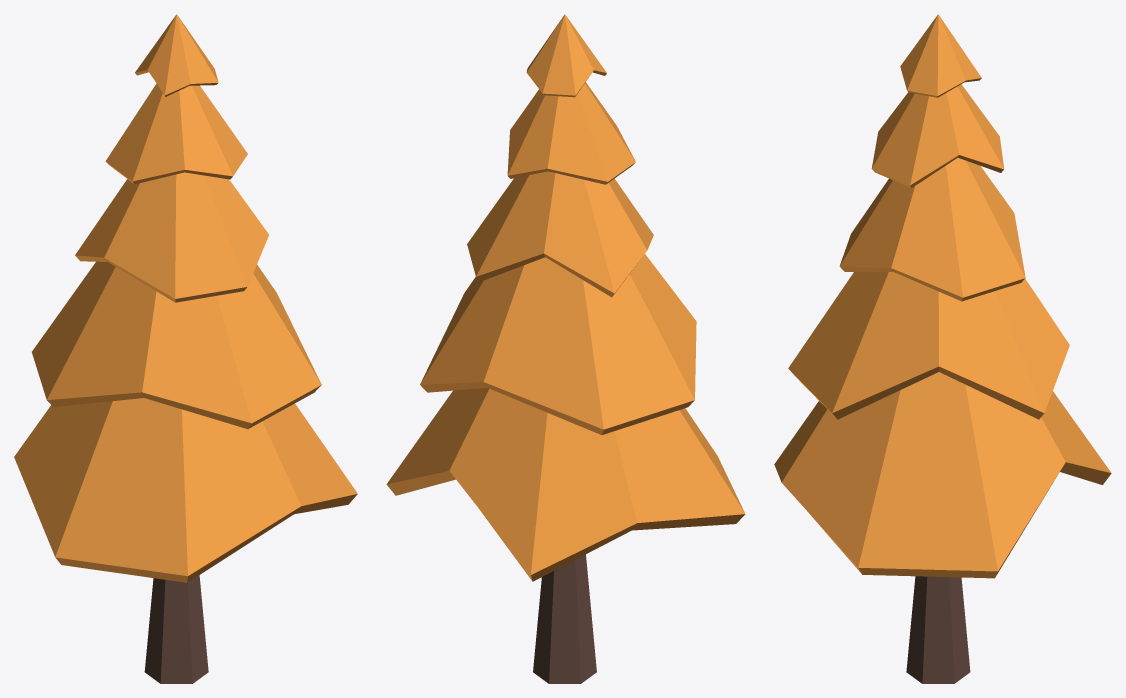
The model's file is AutumnTree_01.fbx.
The picture shows the model from 3 angles, left to right: view 1: azimuth 30°, elevation 25°; view 2: azimuth 150°, elevation 25°; view 3: azimuth 270°, elevation 25°; orthographic projection.
Parts seen in each view (by area): view 1: AutumnTree_01; view 2: AutumnTree_01; view 3: AutumnTree_01.
Part boxes in pixels (<box>): AutumnTree_01: <box>14,14,357,683</box>; AutumnTree_01: <box>386,14,745,683</box>; AutumnTree_01: <box>774,14,1111,683</box>.
Size of the model in its own units: 485 by 1018 by 473.
